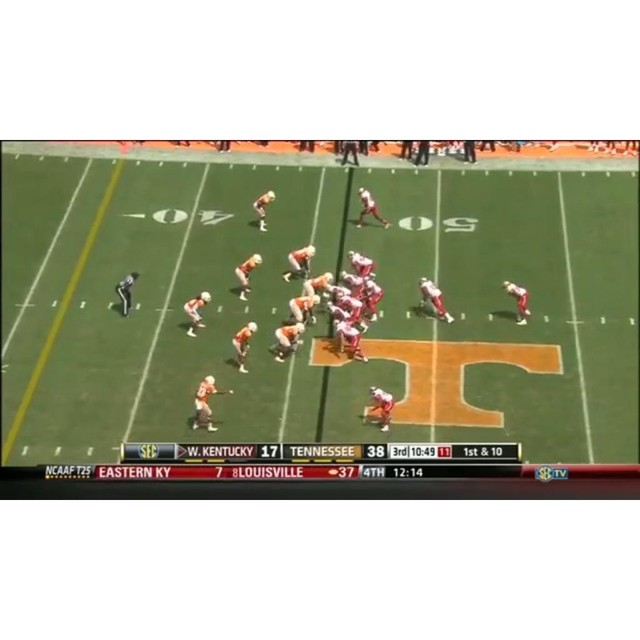american-football-player: (190, 375, 228, 432), (418, 276, 455, 323), (333, 319, 369, 364), (363, 385, 396, 432), (269, 323, 306, 364), (355, 187, 391, 229), (230, 321, 257, 373), (182, 291, 212, 337), (282, 244, 317, 283), (233, 253, 262, 300), (502, 280, 531, 326), (335, 292, 368, 326), (362, 275, 385, 322), (251, 190, 277, 231), (286, 295, 320, 326), (302, 272, 335, 302), (347, 251, 376, 279), (340, 270, 367, 299)
referee: (109, 270, 141, 320)
